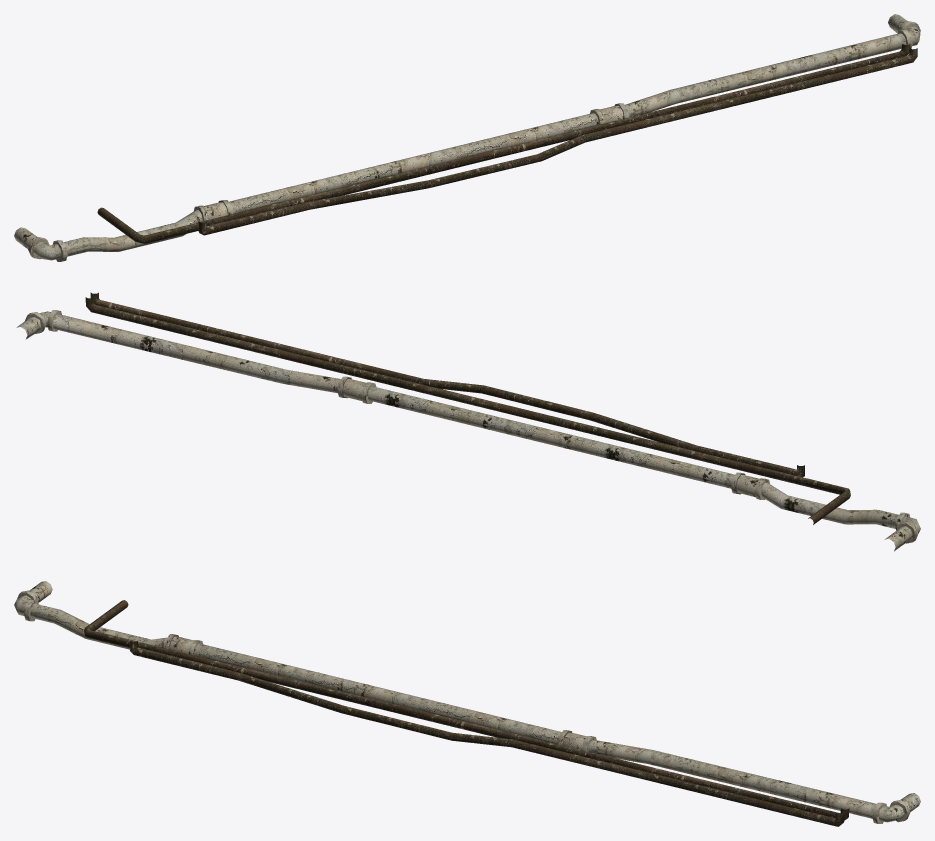
Rendered from prison_pipes002a.glb.
3 views of the same model, one above another, from view 1: azimuth 30°, elevation 25°; view 2: azimuth 150°, elevation 25°; view 3: azimuth 330°, elevation 25° (orthographic).
Parts seen in each view (by area): view 1: 0_prison_objects004; view 2: 0_prison_objects004; view 3: 0_prison_objects004.
Part boxes in pixels (box(x1,y1,x2,y2)): 0_prison_objects004: box(14, 14, 920, 261); 0_prison_objects004: box(16, 292, 920, 551); 0_prison_objects004: box(14, 581, 920, 826).
Size of the model in its own units: 13.11 by 0.4148 by 1.45.
Materials: 1 (1 with a texture image).
